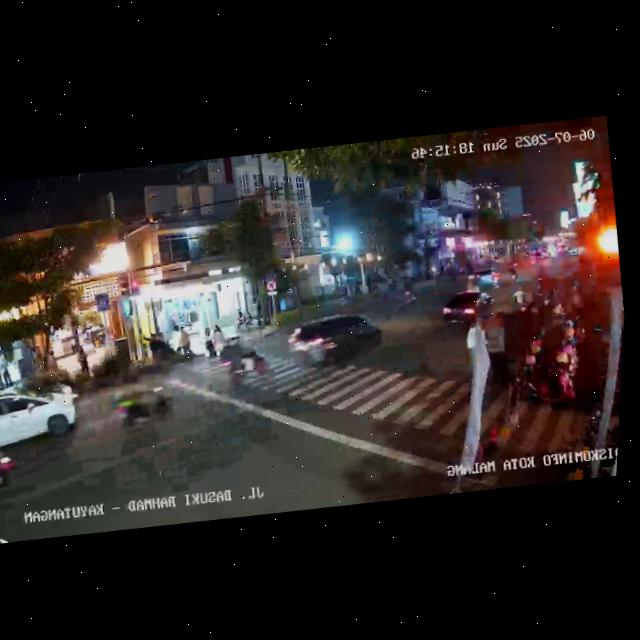car: (0, 382, 85, 473), (285, 307, 388, 381), (436, 287, 497, 331), (470, 267, 505, 293)
motorcycle: (111, 377, 178, 438), (222, 340, 273, 394), (510, 284, 534, 317), (398, 279, 420, 308), (507, 261, 522, 283)
person: (479, 313, 518, 392), (461, 312, 493, 373), (202, 326, 220, 364), (177, 324, 196, 359), (213, 324, 229, 361), (77, 343, 92, 376), (1, 360, 15, 388), (0, 360, 4, 391)
